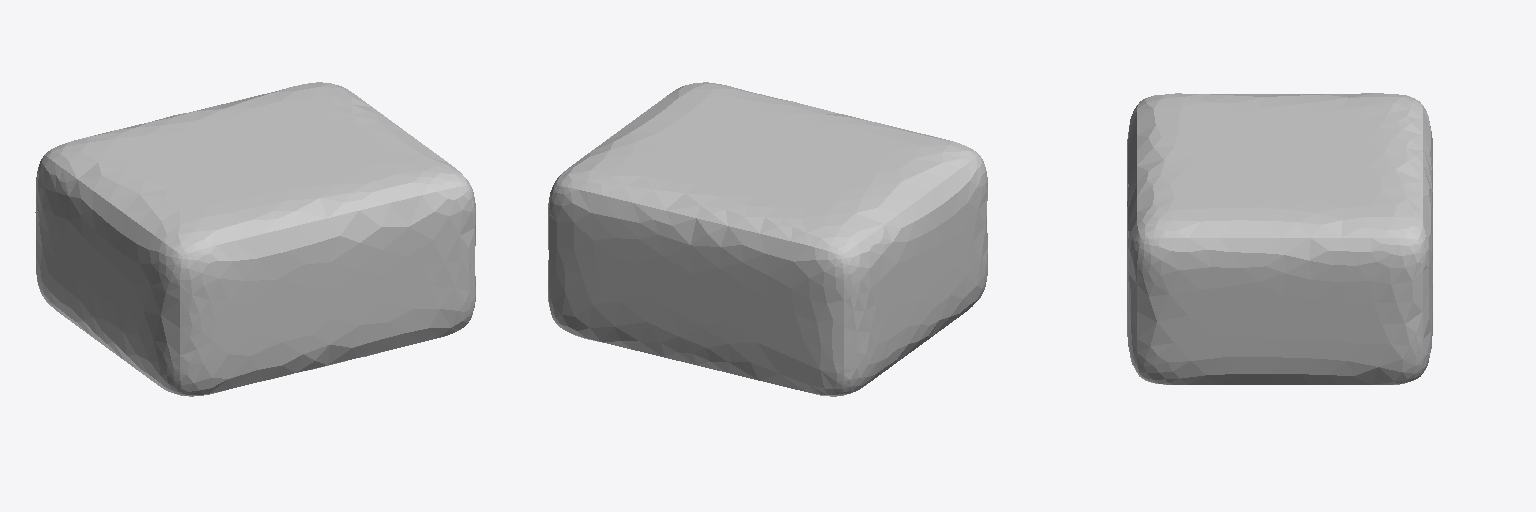
File: bag_thick_handle_sparse.obj
3 views of the same model, side by side, from view 1: azimuth 30°, elevation 25°; view 2: azimuth 150°, elevation 25°; view 3: azimuth 270°, elevation 25° (orthographic).
Parts seen in each view (by area): view 1: mmGroup0; view 2: mmGroup0; view 3: mmGroup0.
Boxes of the visible parts, <box> form: mmGroup0: <box>35,82,475,396</box>; mmGroup0: <box>548,82,987,396</box>; mmGroup0: <box>1127,93,1432,384</box>.
Size of the model in its own units: 0.5 by 0.3 by 0.42.